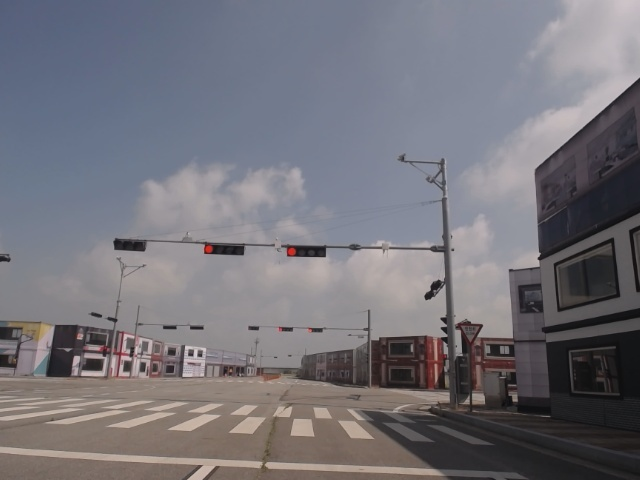red_4: (285, 246, 327, 258), (203, 243, 244, 255)
